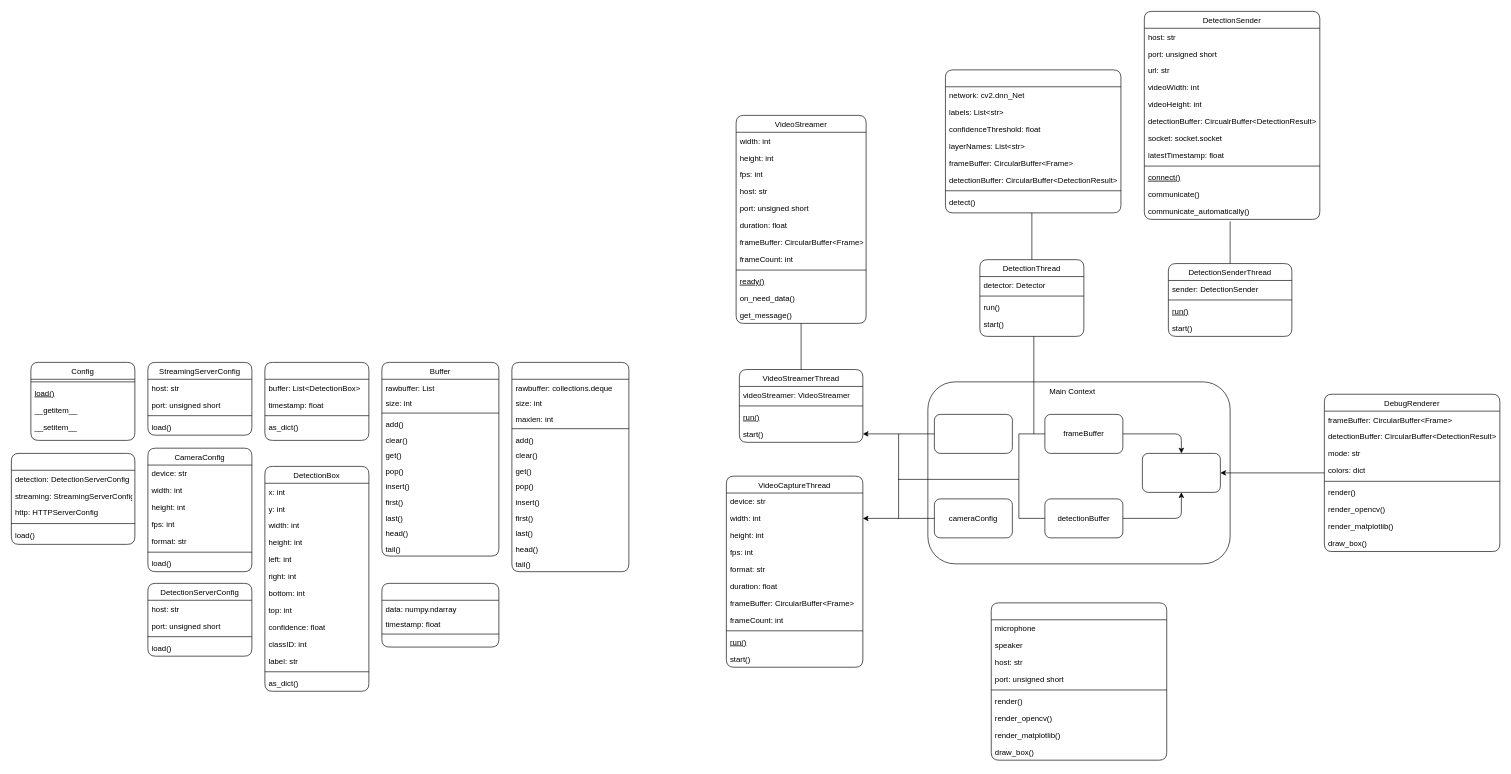
The diagram is 1511 pixels wide and 774 high, and some of its shapes have lost their labels. Each missing label, with the box of its shape:
AudioManagerThread: (991, 602, 1167, 760)
CircularBuffer: (511, 362, 629, 572)
DetectionResult: (264, 362, 369, 440)
Detector: (945, 69, 1121, 213)
Frame: (381, 583, 499, 647)
renderer: (1142, 453, 1220, 492)
serverConfig: (934, 414, 1012, 453)
ServerConfigLoader: (11, 453, 135, 544)
